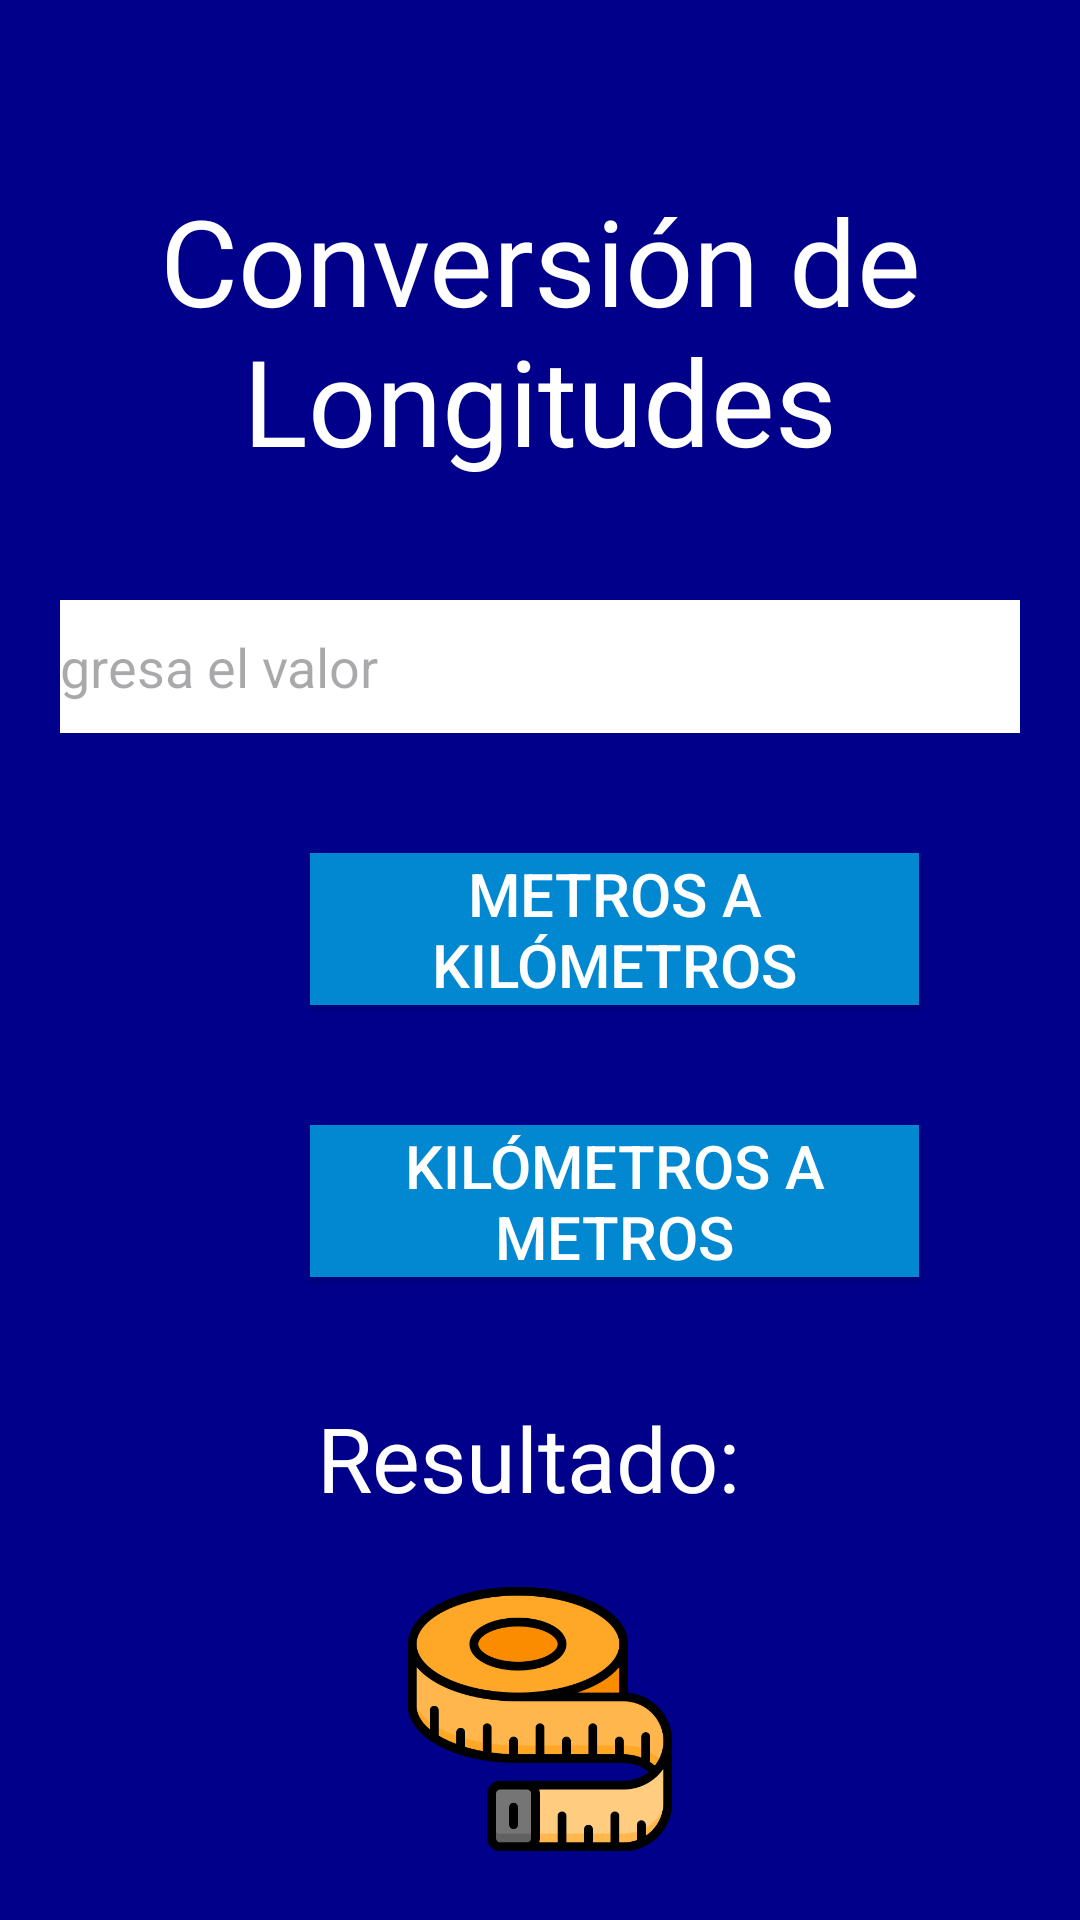

Screen size 1080 × 1920. Icon name, then its box in pixels as (x1, y1, x2, y2):
medida: (408, 1587, 672, 1851)
